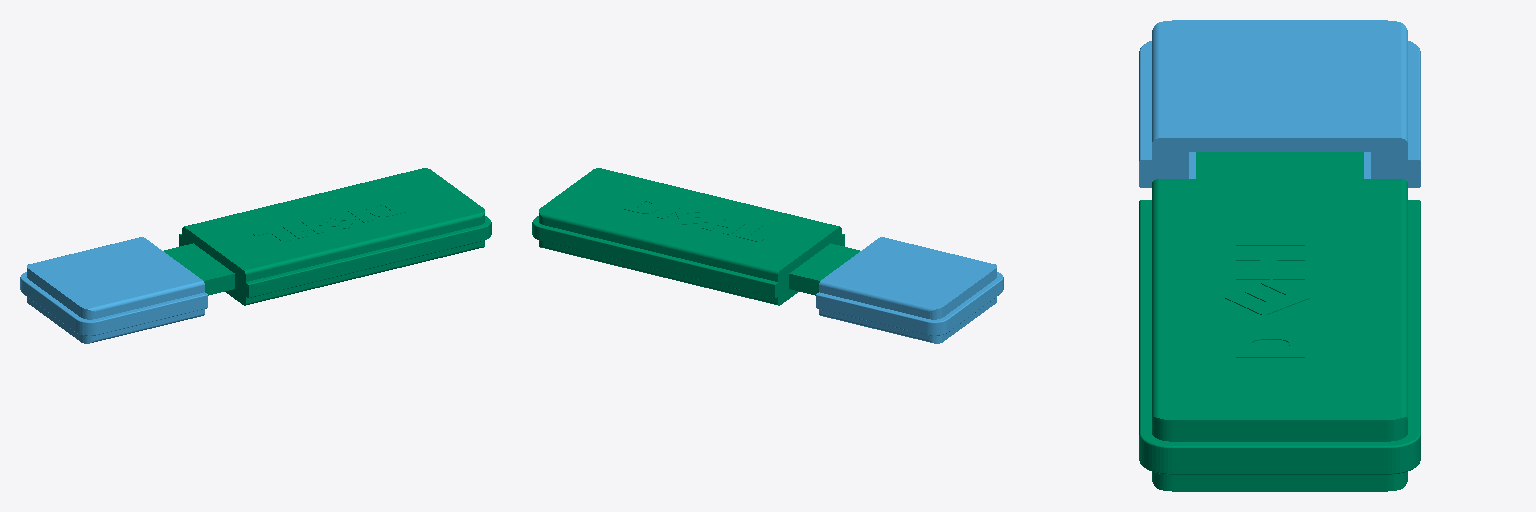
URDF robot description (partnet_f8e33792066cceec9d46068d27fb8249):
<?xml version="1.0" ?>
<robot name="partnet_f8e33792066cceec9d46068d27fb8249">
	<link name="base"/>
	<link name="link_0">
		<visual name="cap-1">
			<origin xyz="0 0 0"/>
			<geometry>
				<mesh filename="textured_objs/original-6.obj"/>
			</geometry>
		</visual>
		<collision>
			<origin xyz="0 0 0"/>
			<geometry>
				<mesh filename="textured_objs/original-6.obj"/>
			</geometry>
		</collision>
	</link>
	<joint name="joint_0" type="prismatic">
		<origin xyz="0 0 0"/>
		<axis xyz="0 0 1"/>
		<child link="link_0"/>
		<parent link="link_1"/>
		<limit lower="-0.41999999999999993" upper="-0.08800000000000008"/>
	</joint>
	<link name="link_1">
		<visual name="base_body-2">
			<origin xyz="0 0 0"/>
			<geometry>
				<mesh filename="textured_objs/original-4.obj"/>
			</geometry>
		</visual>
		<visual name="base_body-2">
			<origin xyz="0 0 0"/>
			<geometry>
				<mesh filename="textured_objs/original-3.obj"/>
			</geometry>
		</visual>
		<visual name="base_body-2">
			<origin xyz="0 0 0"/>
			<geometry>
				<mesh filename="textured_objs/original-8.obj"/>
			</geometry>
		</visual>
		<visual name="base_body-2">
			<origin xyz="0 0 0"/>
			<geometry>
				<mesh filename="textured_objs/original-9.obj"/>
			</geometry>
		</visual>
		<visual name="base_body-2">
			<origin xyz="0 0 0"/>
			<geometry>
				<mesh filename="textured_objs/original-5.obj"/>
			</geometry>
		</visual>
		<visual name="base_body-2">
			<origin xyz="0 0 0"/>
			<geometry>
				<mesh filename="textured_objs/original-11.obj"/>
			</geometry>
		</visual>
		<visual name="base_body-2">
			<origin xyz="0 0 0"/>
			<geometry>
				<mesh filename="textured_objs/original-12.obj"/>
			</geometry>
		</visual>
		<visual name="base_body-2">
			<origin xyz="0 0 0"/>
			<geometry>
				<mesh filename="textured_objs/original-10.obj"/>
			</geometry>
		</visual>
		<collision>
			<origin xyz="0 0 0"/>
			<geometry>
				<mesh filename="textured_objs/original-4.obj"/>
			</geometry>
		</collision>
		<collision>
			<origin xyz="0 0 0"/>
			<geometry>
				<mesh filename="textured_objs/original-3.obj"/>
			</geometry>
		</collision>
		<collision>
			<origin xyz="0 0 0"/>
			<geometry>
				<mesh filename="textured_objs/original-8.obj"/>
			</geometry>
		</collision>
		<collision>
			<origin xyz="0 0 0"/>
			<geometry>
				<mesh filename="textured_objs/original-9.obj"/>
			</geometry>
		</collision>
		<collision>
			<origin xyz="0 0 0"/>
			<geometry>
				<mesh filename="textured_objs/original-5.obj"/>
			</geometry>
		</collision>
		<collision>
			<origin xyz="0 0 0"/>
			<geometry>
				<mesh filename="textured_objs/original-11.obj"/>
			</geometry>
		</collision>
		<collision>
			<origin xyz="0 0 0"/>
			<geometry>
				<mesh filename="textured_objs/original-12.obj"/>
			</geometry>
		</collision>
		<collision>
			<origin xyz="0 0 0"/>
			<geometry>
				<mesh filename="textured_objs/original-10.obj"/>
			</geometry>
		</collision>
	</link>
	<joint name="joint_1" type="fixed">
		<origin rpy="1.570796326794897 0 -1.570796326794897" xyz="0 0 0"/>
		<child link="link_1"/>
		<parent link="base"/>
	</joint>
</robot>

--- Facts derived from the render (not from the file) ---
3 views of the same robot in one strip: view 1: azimuth 30°, elevation 25°; view 2: azimuth 150°, elevation 25°; view 3: azimuth 270°, elevation 25° (orthographic).
Robot: partnet_f8e33792066cceec9d46068d27fb8249 — 3 links, 2 joints (1 prismatic, 1 fixed); root link base; default pose: joints at zero except 1 at the middle of their limits (joint_0 = -0.254).
Visible links, largest first — view 1: link_1, link_0; view 2: link_1, link_0; view 3: link_1, link_0.
Link boxes in pixels (left/top/right/bottom): link_1: left=164, top=168, right=491, bottom=305; link_0: left=20, top=237, right=207, bottom=343; link_1: left=532, top=168, right=859, bottom=305; link_0: left=816, top=237, right=1003, bottom=343; link_1: left=1139, top=152, right=1420, bottom=491; link_0: left=1139, top=20, right=1420, bottom=187.
Bounding box of the posed robot: 1.71 × 0.4965 × 0.1405 m (x, y, z).
Meshes: 9 distinct files referenced, 9 mesh visuals loaded (9 OBJ).
